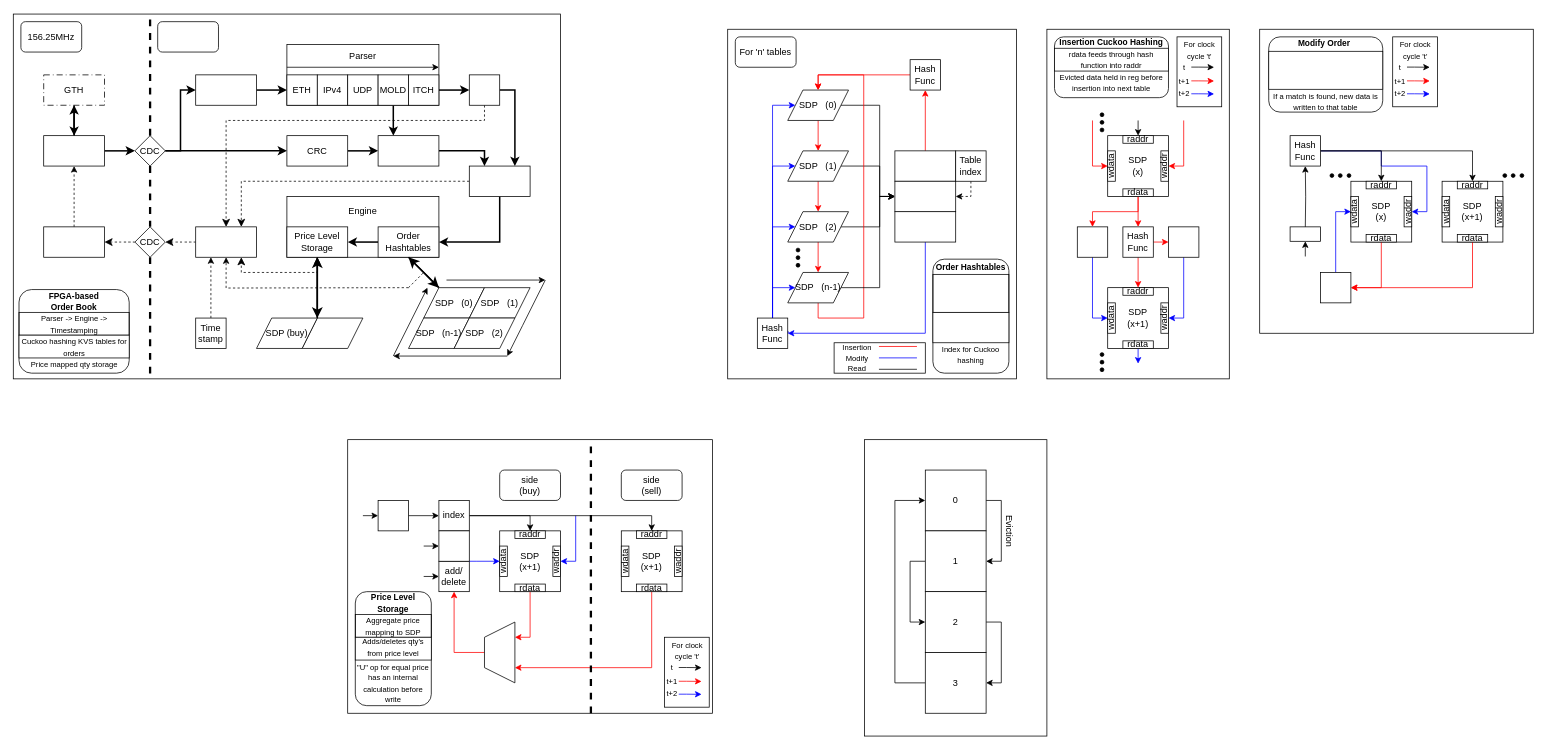
Image size: 1547x749. Some labels were removed from this diagram. Each missing label, with the centre of its shape:
156.25+MHz: (187,36)
Addr reg: (1183,241)
Data reg: (1092,241)
Event FIFO: (225,241)
FCS extender: (408,150)
Frame stripping/AXI: (225,89)
Handler: (925,196)
Handler for SDP reads: (970,327)
if rdata = Order: (1335,287)
Insertion "A": (925,165)
Insertion/Modify for add for SDP writes/inputs: (970,293)
Key: (1304,233)
Key for order is hashed and feeds through to raddr for all tables: (1325,70)
Message/FCS FIFO: (499,180)
Modify "E", "D", "U": (925,226)
Order Input: (484,89)
PCS: (73,150)
Price: (392,515)
Qty: (453,545)
SDP (sell): (332,332)
side: (499,652)
TX framing: (73,241)
